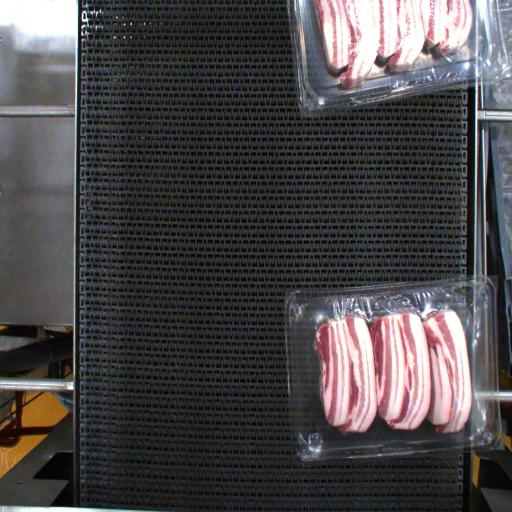unsealed: (288, 294, 502, 445)
